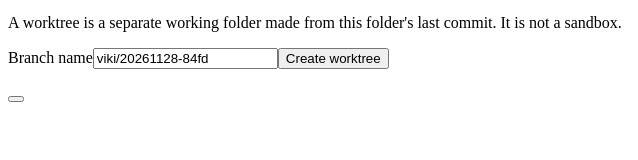
Test case: an empty branch name shows the branch rule without asking the server
Clear the field labelled "Branch name" at [185, 58], box left=93, top=48, right=278, bottom=69
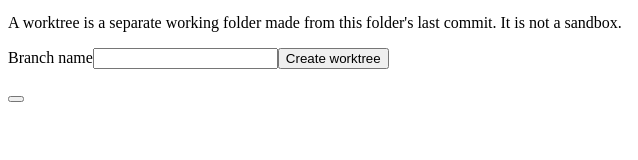
Click the button "Create worktree".
click(333, 58)  # box left=278, top=48, right=389, bottom=69
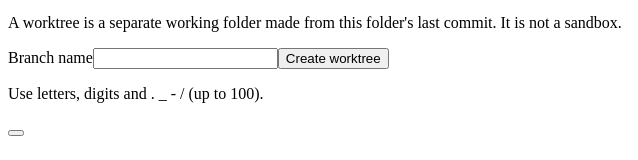
Result: the message reads "Use letters, digits and . _ - / (up to 100)." at left=8, top=85, right=264, bottom=102
